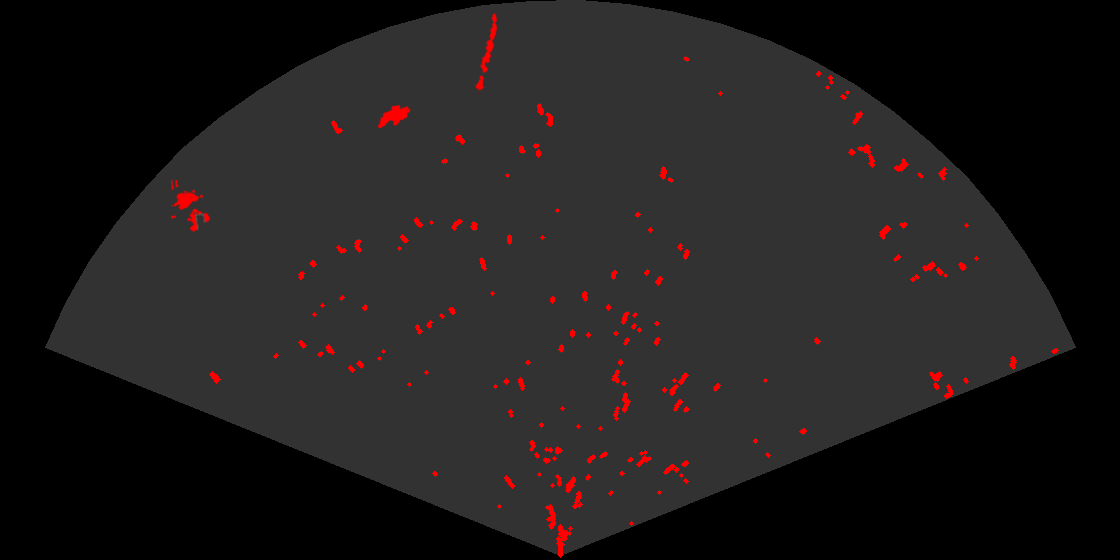AUV: (376, 103, 412, 130)
cage: (171, 180, 212, 234)
chain: (474, 11, 499, 95)
